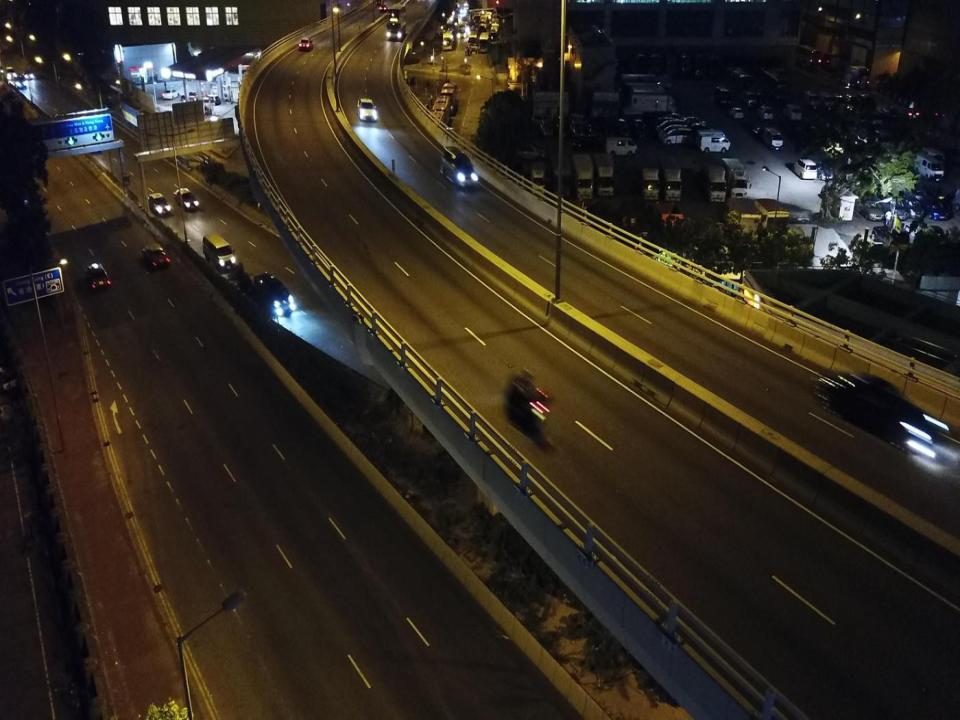bus: (834, 62, 869, 90), (726, 66, 754, 98), (761, 70, 790, 100), (872, 224, 909, 246), (552, 154, 571, 195), (431, 95, 451, 132), (387, 3, 406, 40), (795, 44, 821, 68), (441, 83, 457, 114), (650, 52, 663, 75), (664, 52, 677, 75), (679, 53, 692, 76), (708, 54, 721, 77), (636, 53, 648, 76), (694, 53, 706, 76), (479, 31, 489, 53), (443, 31, 453, 50), (468, 33, 478, 50), (490, 27, 498, 46), (459, 22, 467, 37), (473, 11, 481, 26), (491, 22, 499, 36), (478, 23, 486, 37), (485, 11, 492, 25), (480, 16, 488, 26)
car: (816, 371, 940, 448), (254, 272, 295, 317), (85, 261, 109, 292), (143, 243, 169, 271), (856, 197, 884, 221), (898, 196, 925, 219), (919, 196, 946, 219), (149, 191, 172, 215), (174, 188, 200, 209), (515, 143, 546, 160), (356, 98, 378, 121), (812, 160, 833, 180), (603, 115, 618, 135), (615, 118, 631, 136), (633, 119, 648, 138), (691, 122, 711, 136), (588, 116, 601, 135), (683, 116, 702, 129), (181, 90, 203, 100), (570, 122, 585, 136), (663, 114, 684, 124), (298, 38, 314, 51), (540, 120, 553, 136), (758, 107, 774, 120), (162, 88, 179, 99), (531, 114, 548, 125), (751, 126, 767, 137), (204, 94, 221, 104), (730, 107, 743, 120), (14, 77, 26, 90), (558, 121, 568, 136), (758, 91, 768, 104), (6, 66, 16, 78), (23, 70, 35, 78), (380, 4, 388, 12), (376, 0, 384, 5), (460, 9, 466, 14), (463, 0, 467, 5)
truck: (701, 156, 726, 204), (634, 153, 659, 200), (658, 153, 681, 202), (721, 157, 747, 200), (630, 93, 676, 115), (622, 73, 671, 93), (575, 154, 593, 200), (594, 154, 614, 195), (626, 81, 666, 97), (629, 88, 670, 103), (532, 162, 545, 196)
van: (441, 146, 477, 188), (203, 232, 234, 271), (876, 192, 907, 220), (912, 155, 944, 179), (697, 133, 731, 152), (606, 136, 636, 156), (573, 136, 604, 153), (920, 147, 944, 168), (696, 130, 728, 145), (793, 159, 817, 179), (660, 124, 689, 140), (763, 127, 783, 150), (652, 117, 682, 132), (664, 129, 693, 144), (658, 121, 687, 136), (902, 184, 926, 202), (715, 86, 731, 107), (783, 103, 802, 120), (830, 93, 846, 111), (805, 91, 820, 109), (844, 93, 859, 111), (858, 93, 873, 111), (820, 92, 834, 110), (742, 90, 756, 107), (569, 114, 587, 126)
